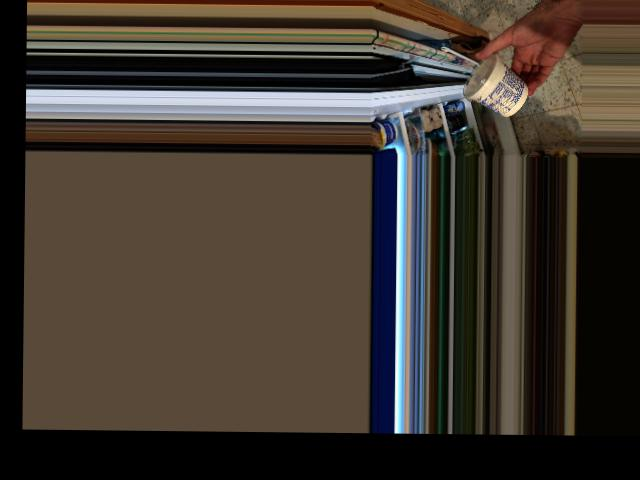cotage: (466, 48, 531, 110)
